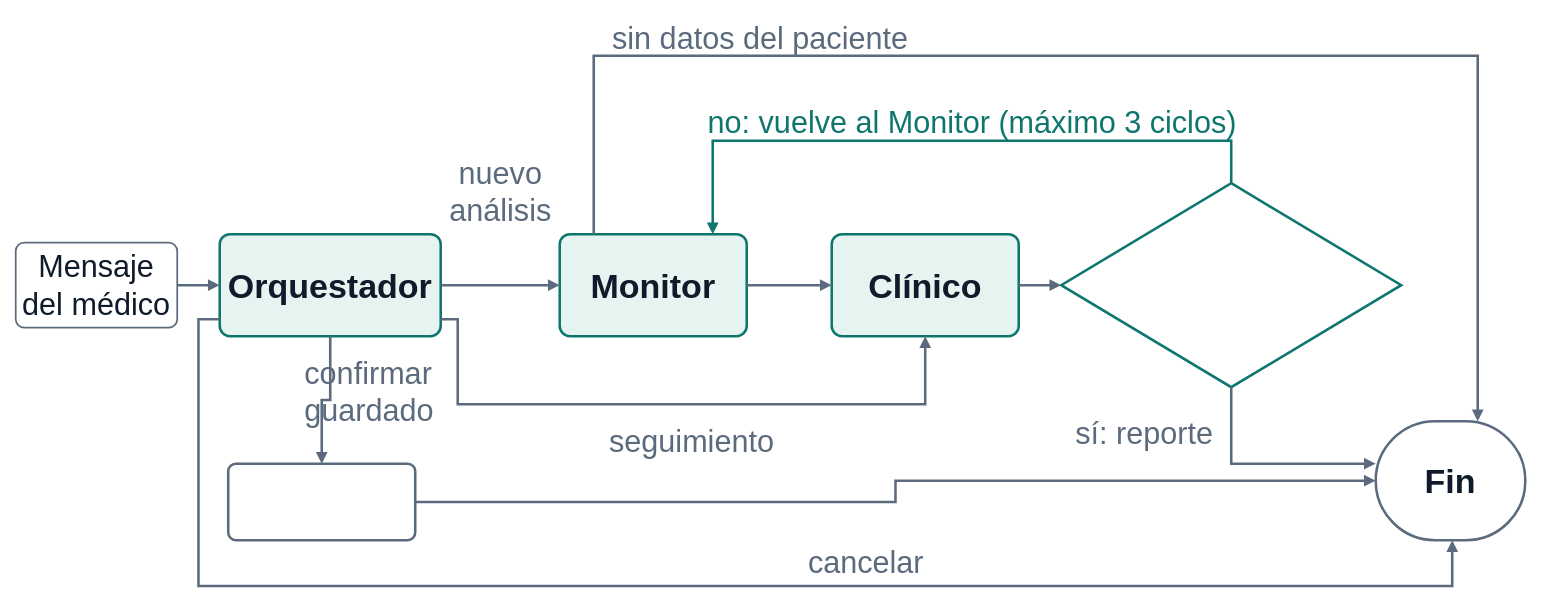
Some shapes in this 1541 by 609 pixel diagram are drawn without their labels. Each missing label, with the centre of its shape:
"Guardado" goes at (321,501).
"¿Información suficiente?" goes at (1231,284).
